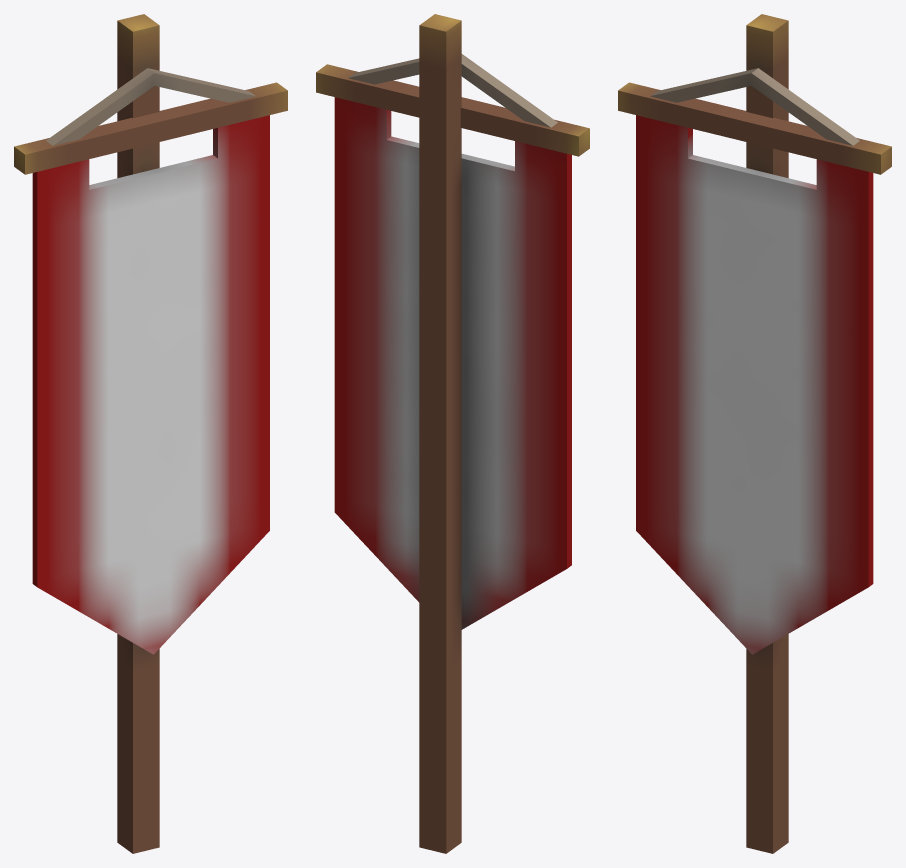
The model's file is TownMarker.glb.
3 views of the same model, side by side, from view 1: azimuth 30°, elevation 25°; view 2: azimuth 150°, elevation 25°; view 3: azimuth 330°, elevation 25° (orthographic).
Visible parts, largest first — view 1: Cube.017; view 2: Cube.017; view 3: Cube.017.
Boxes of the visible parts, bbox=[...] form: Cube.017: bbox=[14, 14, 287, 853]; Cube.017: bbox=[316, 14, 589, 853]; Cube.017: bbox=[618, 14, 891, 853].
Bounding box in the file's own units: 0.5442 × 1.63 × 0.0922.
1 material, 1 textured.
